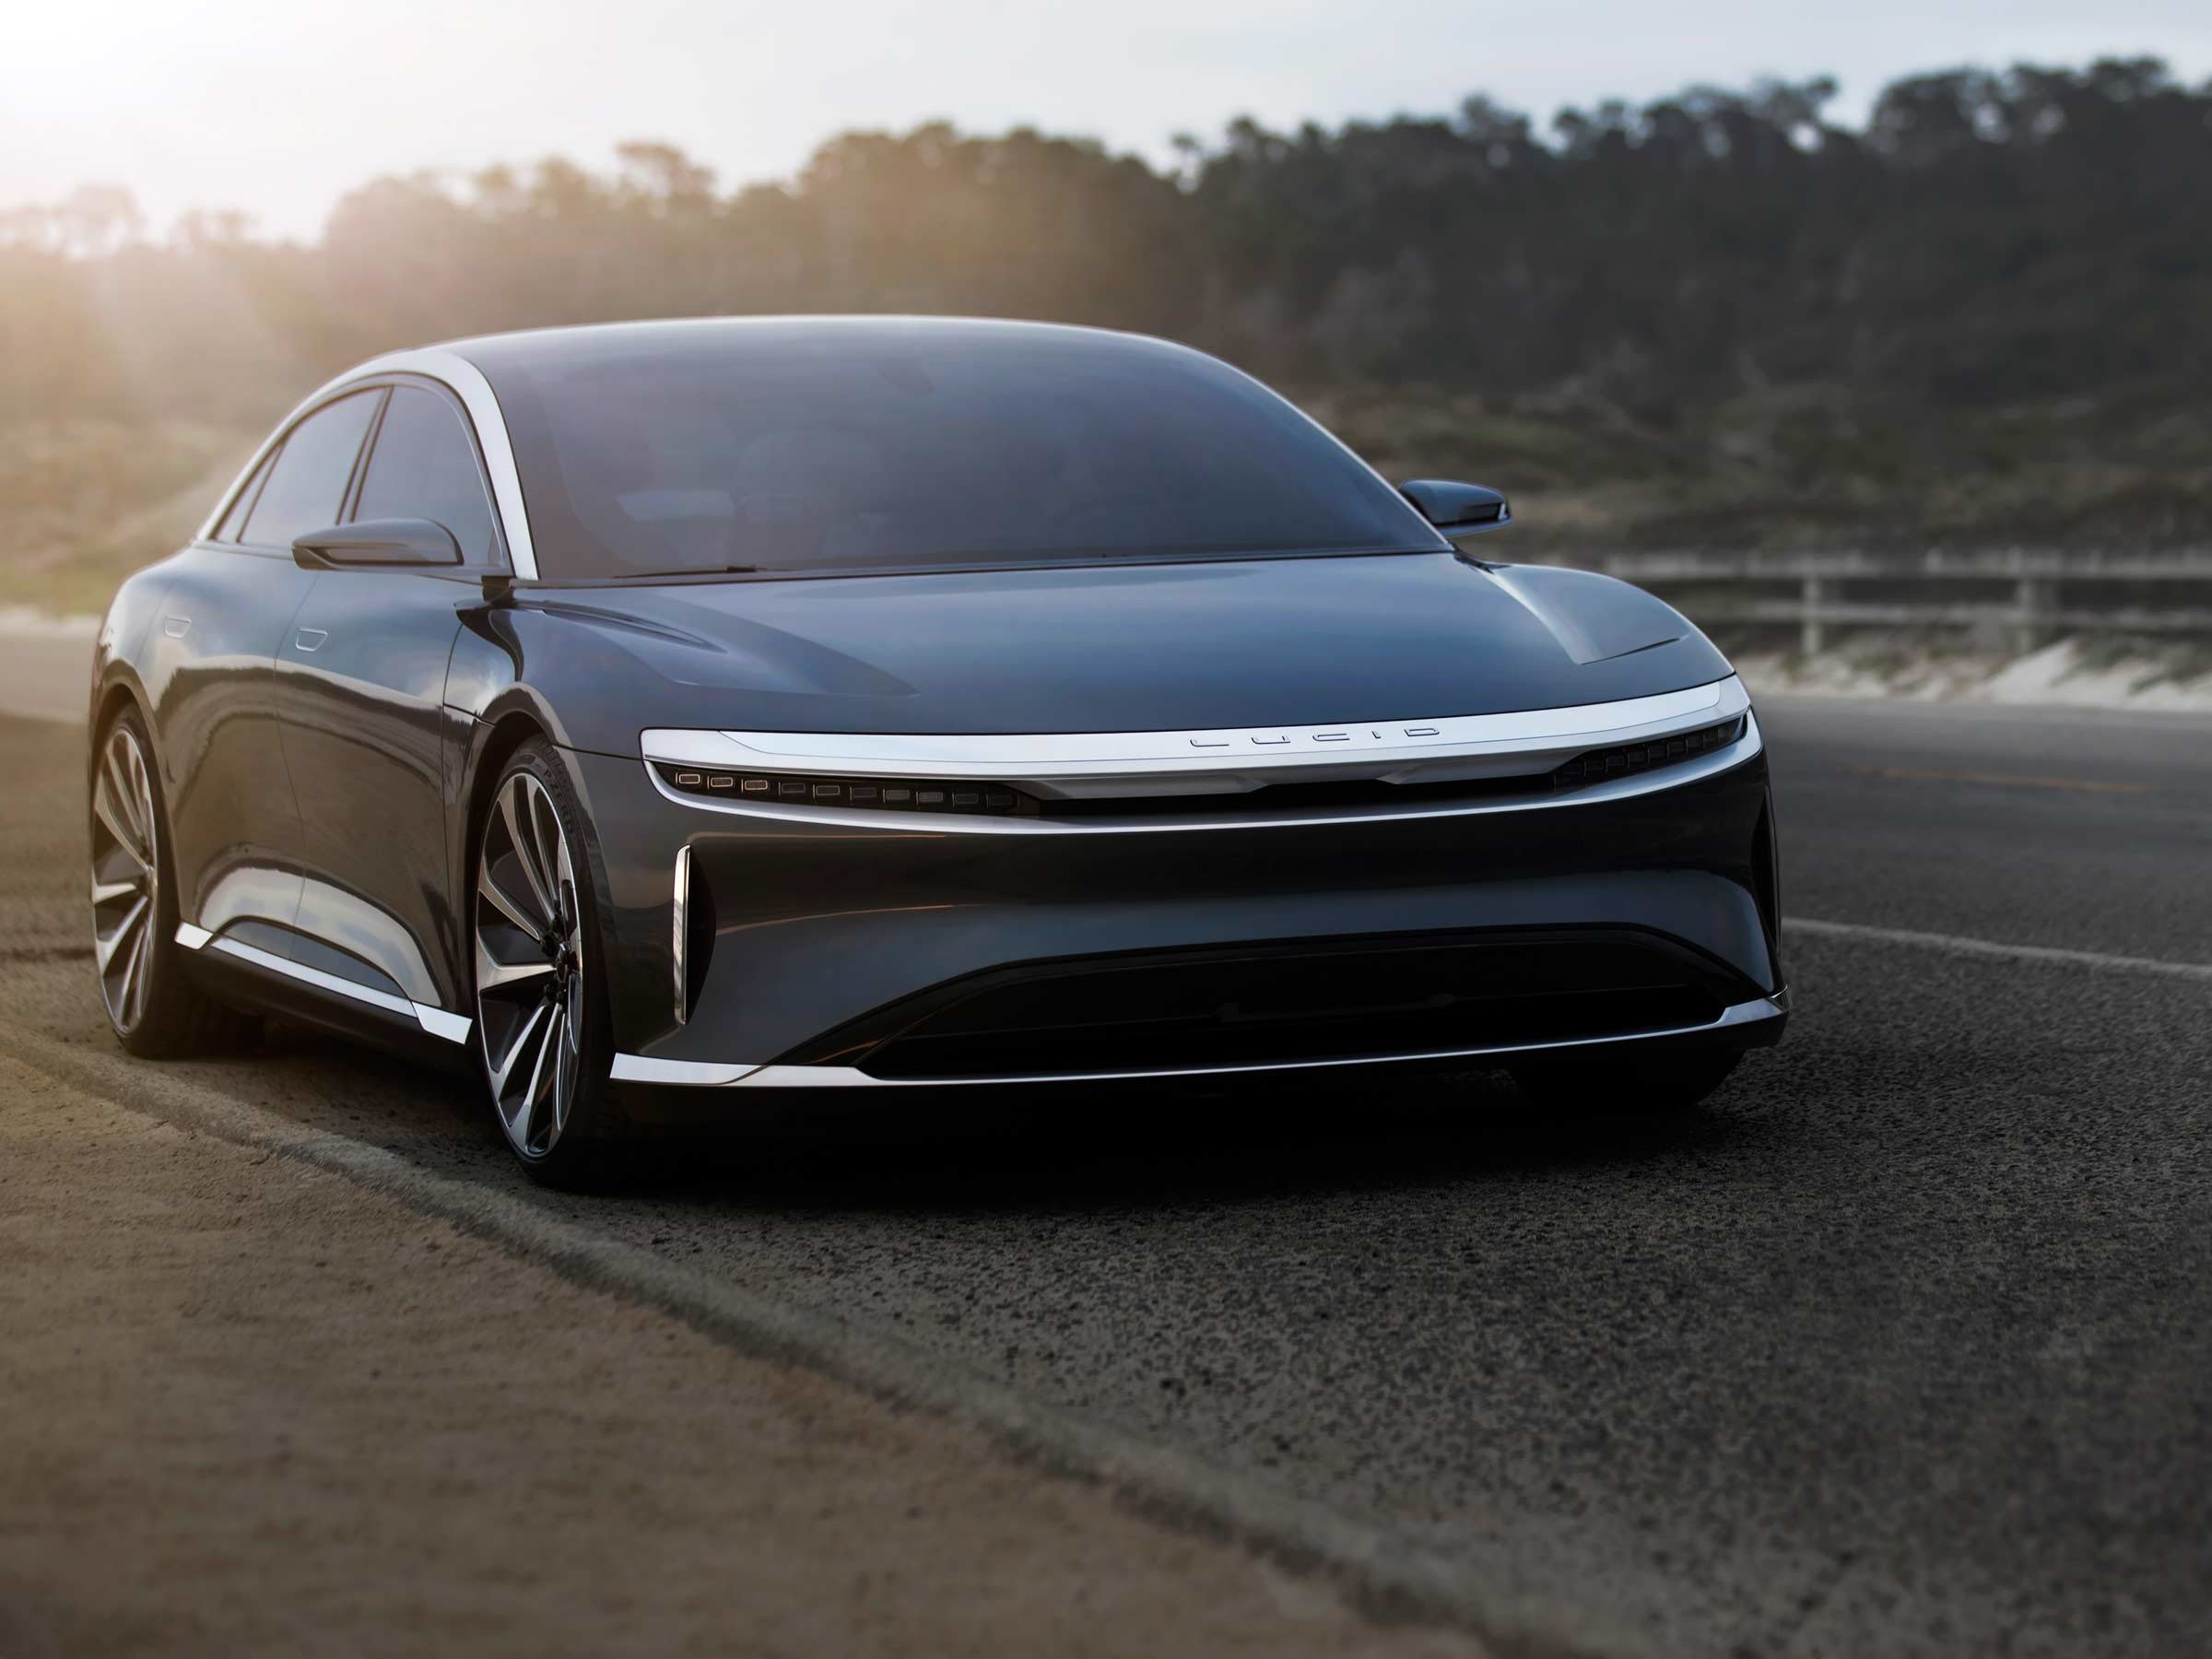car: (98, 260, 1811, 1152)
